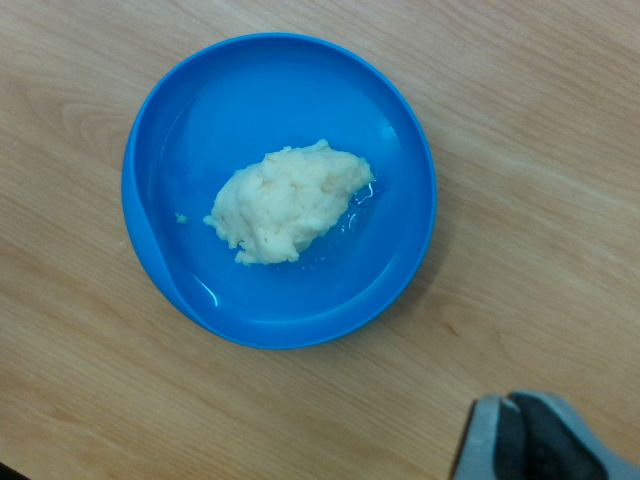mashed_potato: (213, 140, 374, 265)
